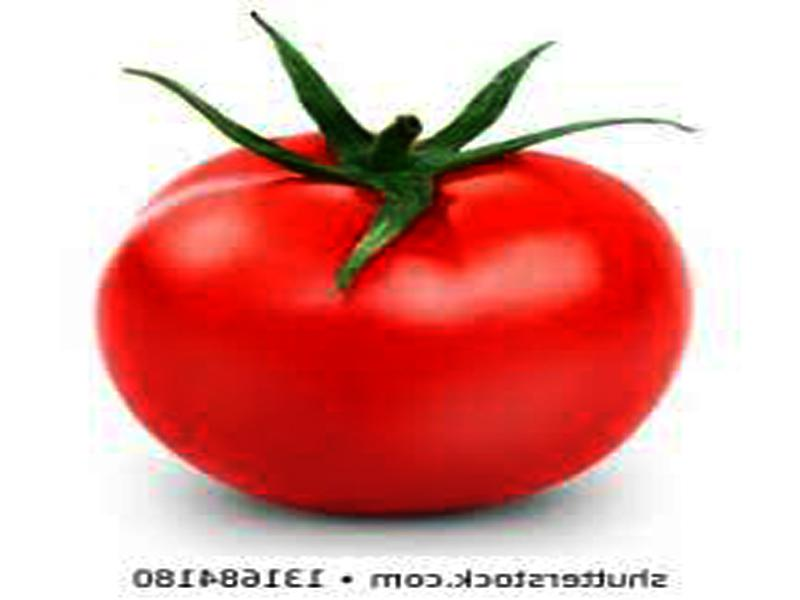Tomato: (95, 136, 688, 510)
